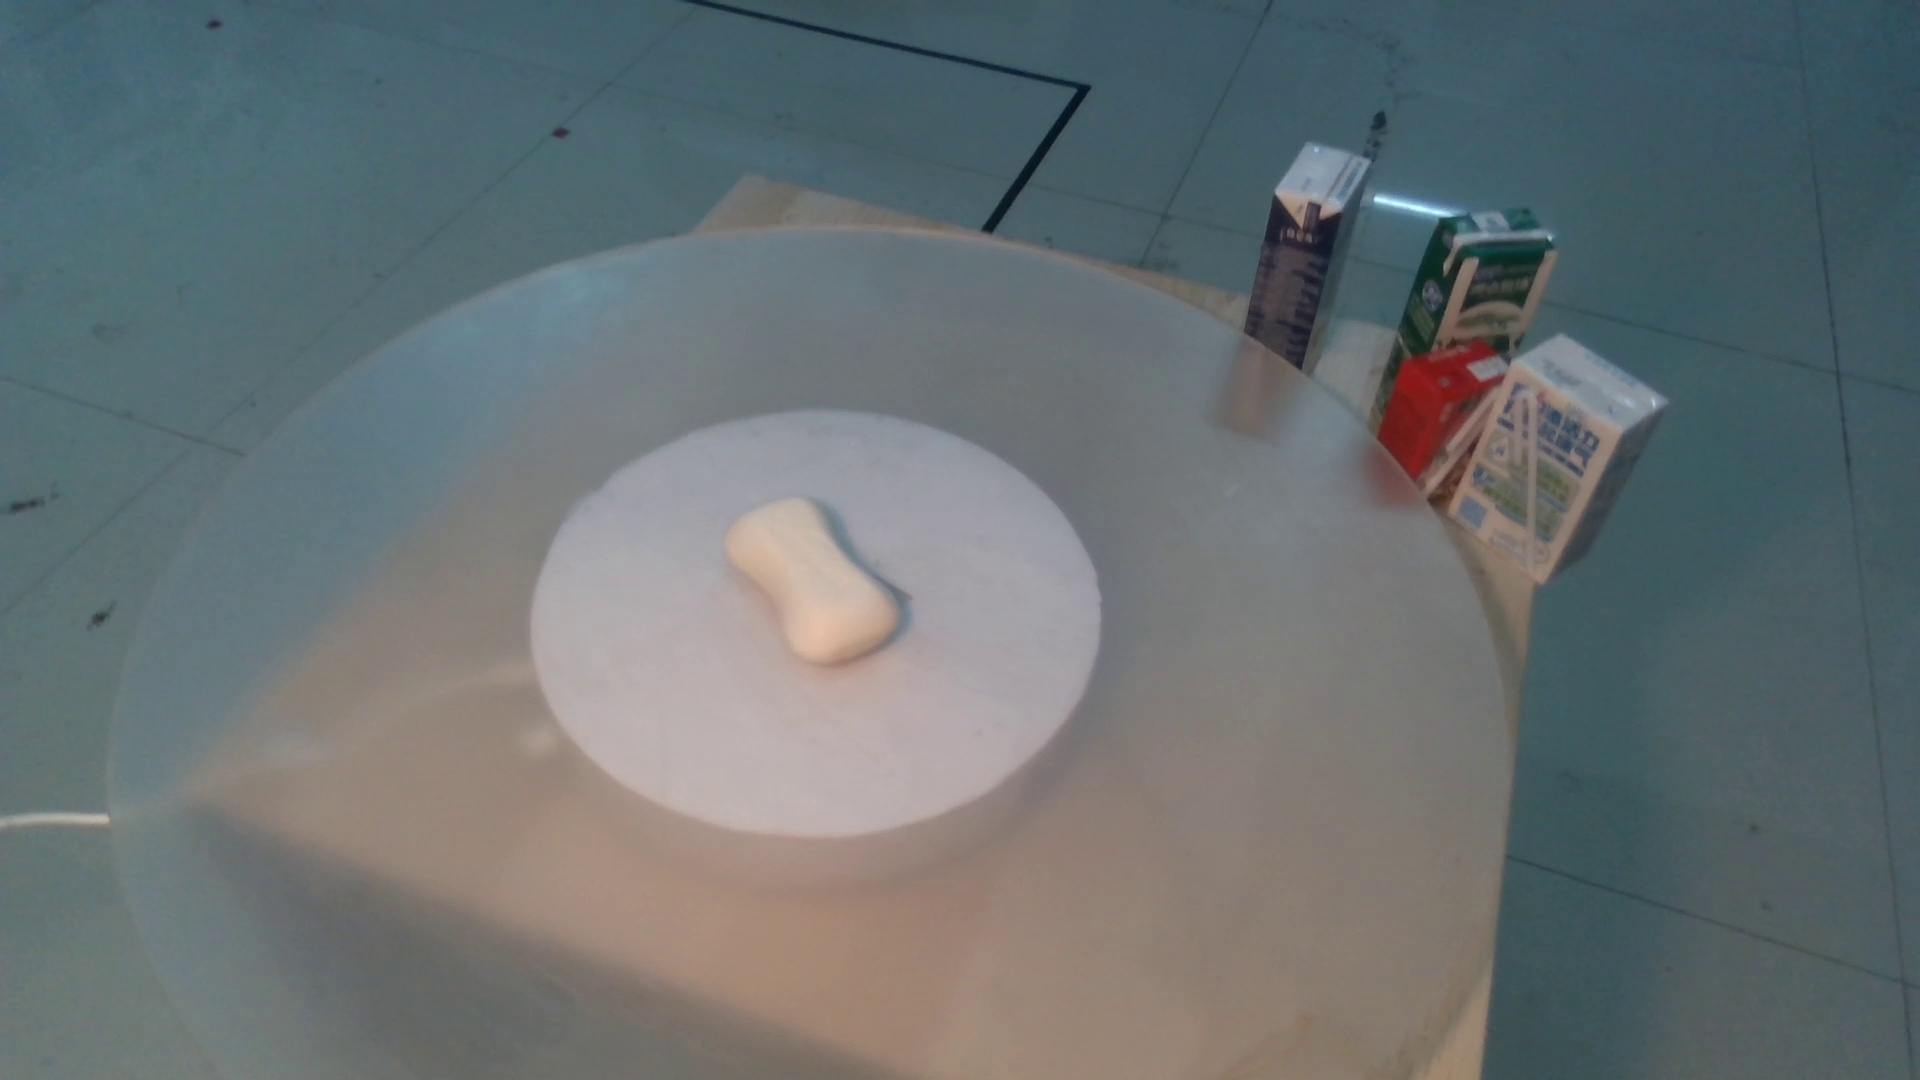CA003_1: (683, 479, 934, 675)
